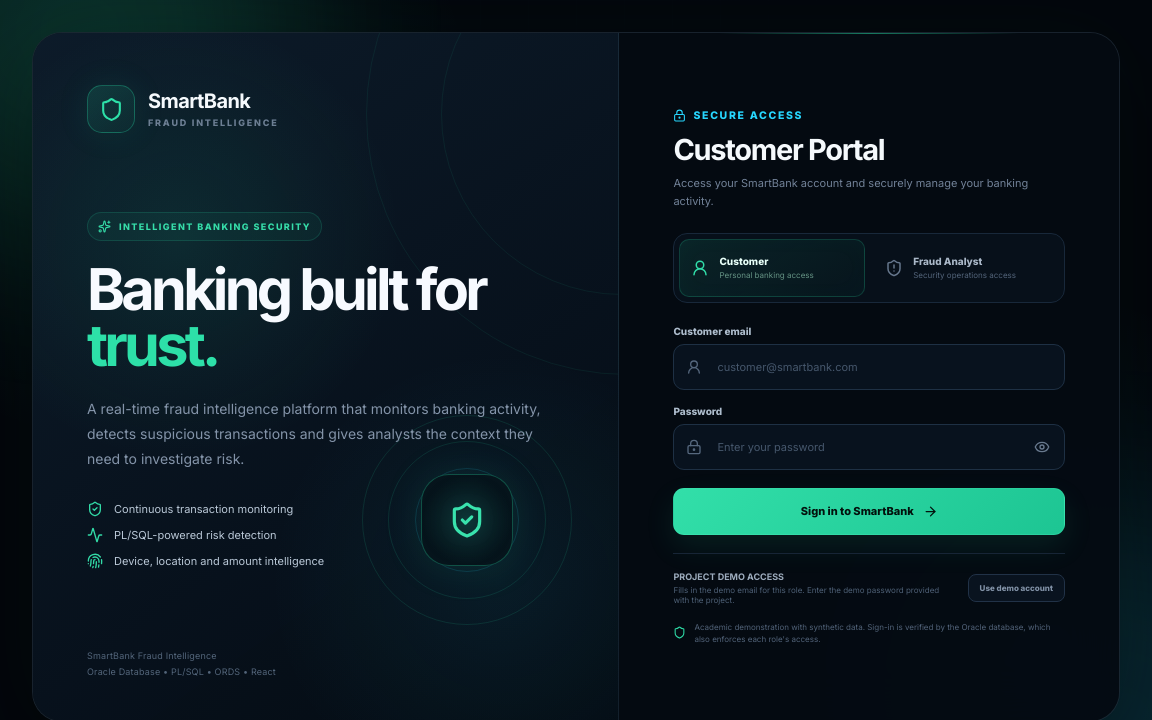
Test: older local Oracle API (no /auth endpoints) › signs in on localhost and says the password is not checked
Type "user@smartbank.com" into the field labelled "Customer email" at [869, 367], box [673,344,1065,390]
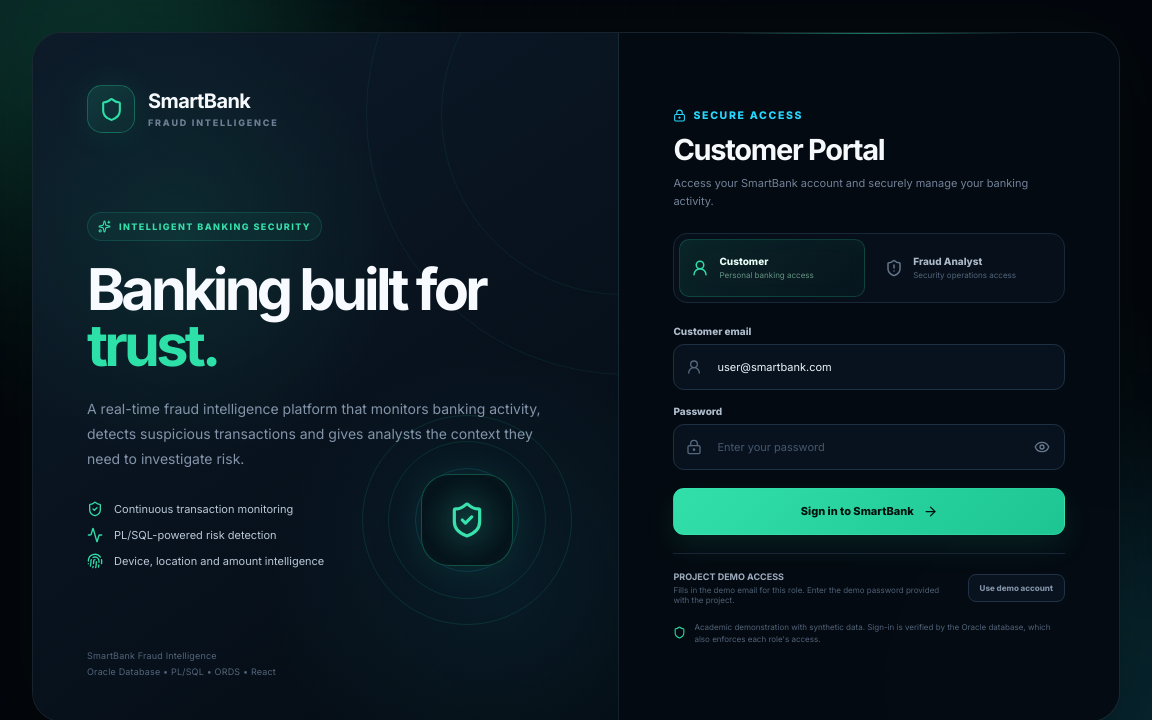
Type "anything" into the password field labelled "Password" at [869, 447], box [673,424,1065,470]
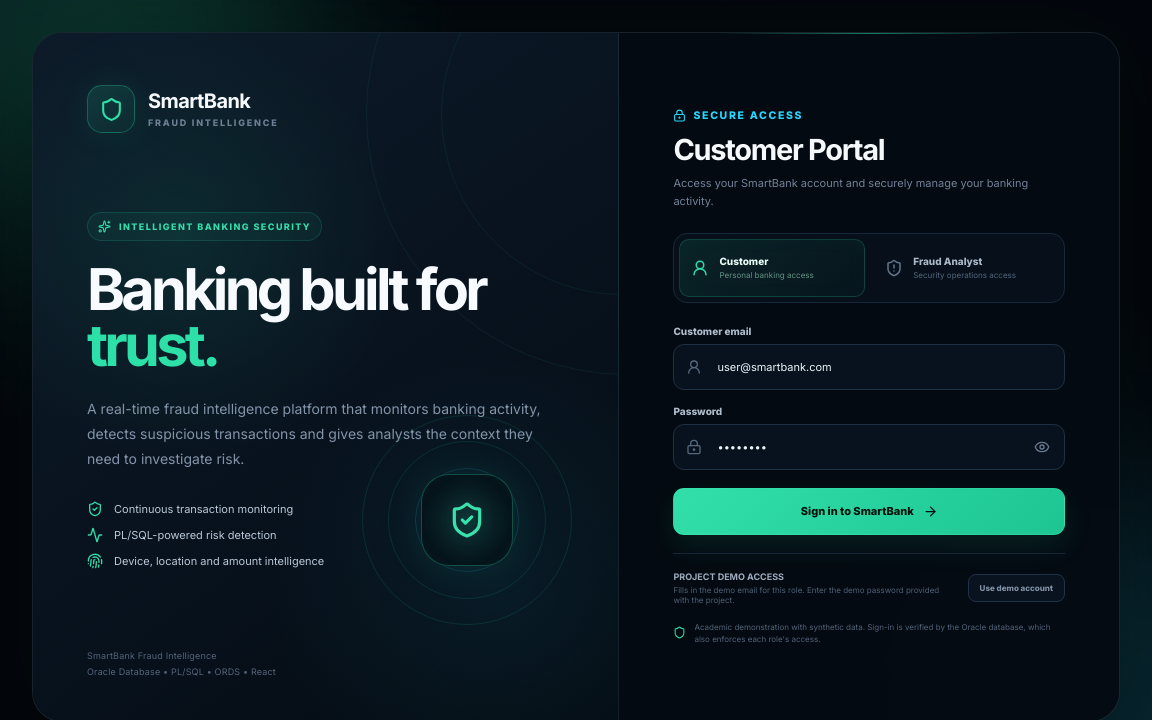
Click the button "Sign in to SmartBank" at [869, 511], box [673,488,1065,535]
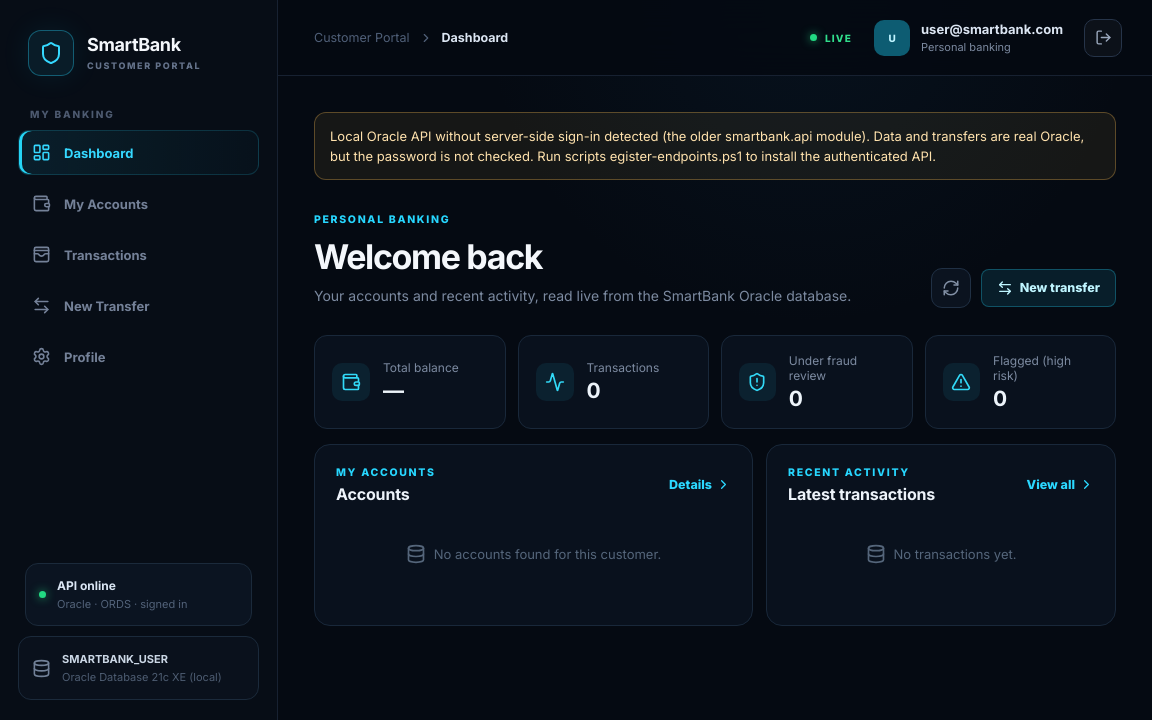
Now the text "without server-side sign-in detected" is shown, box [330,128,1084,164]
